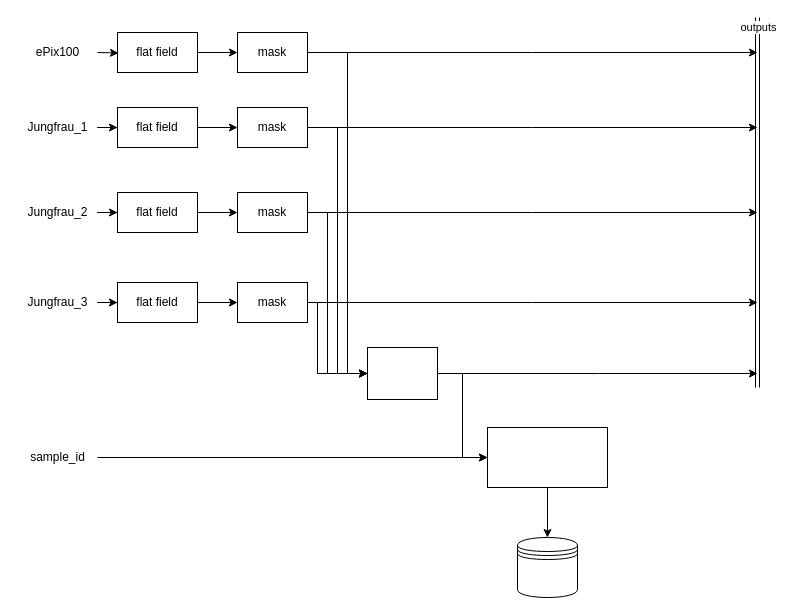
Some shapes in this 793 by 615 pixel diagram are drawn without their labels. The centre of each missing label's shape, as x and y in pixels:
associate with sample_id: pixel 547 457
pyfai: pixel 402 373
